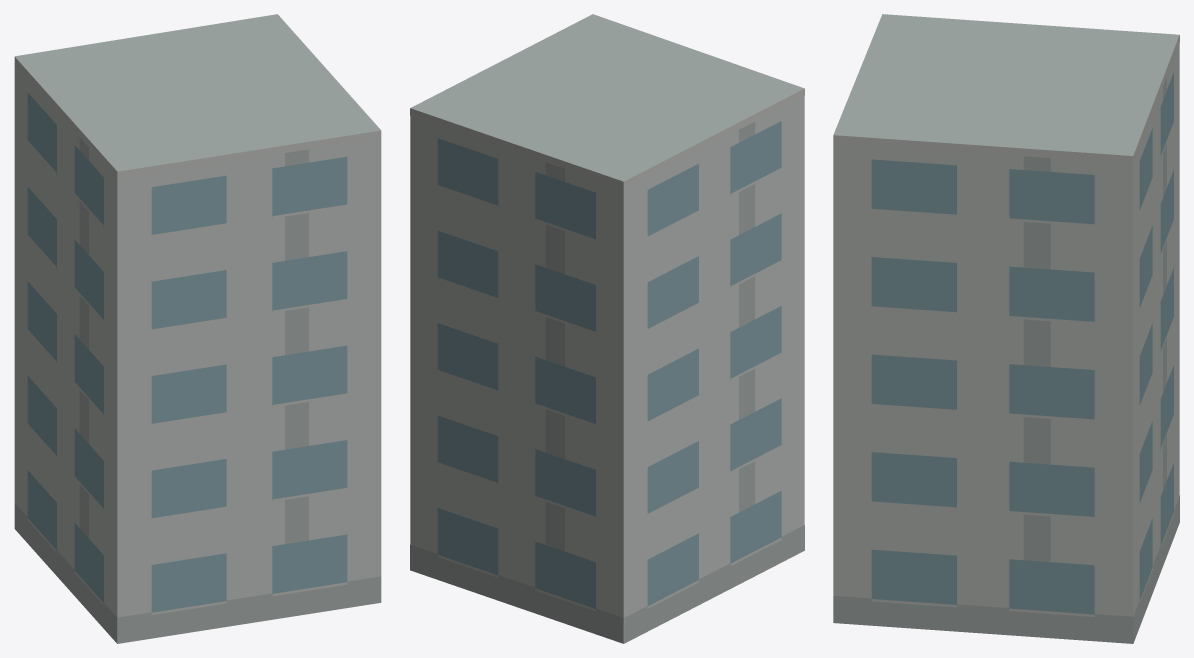
The model's file is survey-upis-32981867.glb.
The picture shows the model from 3 angles, left to right: view 1: azimuth 30°, elevation 25°; view 2: azimuth 150°, elevation 25°; view 3: azimuth 270°, elevation 25°; orthographic projection. The views are drawn at different scales.
Visible parts, largest first — view 1: survey-upis-32981867.tmp; view 2: survey-upis-32981867.tmp; view 3: survey-upis-32981867.tmp.
Boxes of the visible parts, <box> form: survey-upis-32981867.tmp: <box>14,14,381,643</box>; survey-upis-32981867.tmp: <box>410,14,804,643</box>; survey-upis-32981867.tmp: <box>833,14,1179,643</box>.
Bounding box in the file's own units: 9.5 × 15.2 × 9.79.
